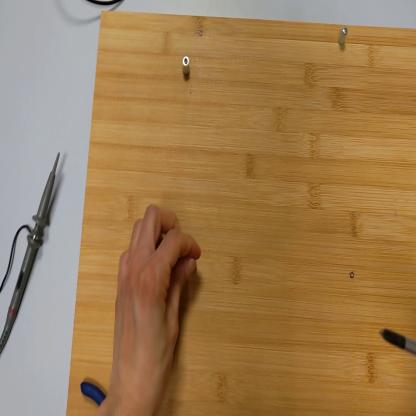hand: (113, 205, 203, 400)
oscilloscope probe tip: (2, 152, 62, 349)
pliers: (83, 383, 108, 407)
screwdriver-: (381, 326, 415, 353)
working area: (67, 10, 416, 416)
